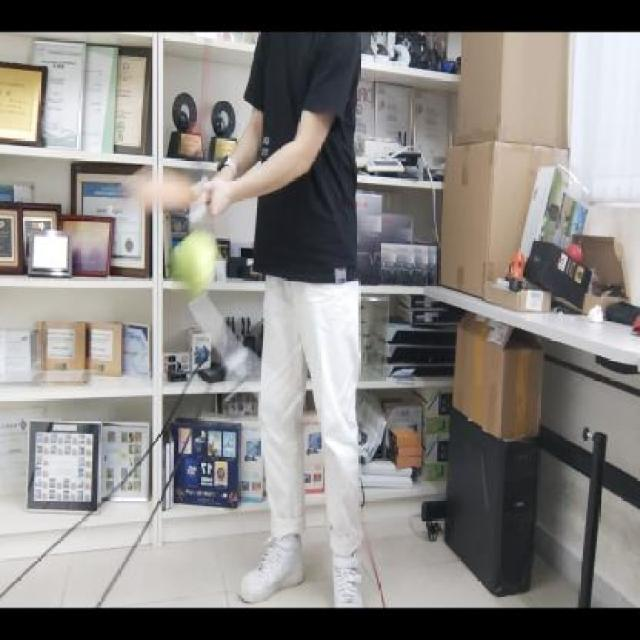baseball: (169, 228, 220, 300)
